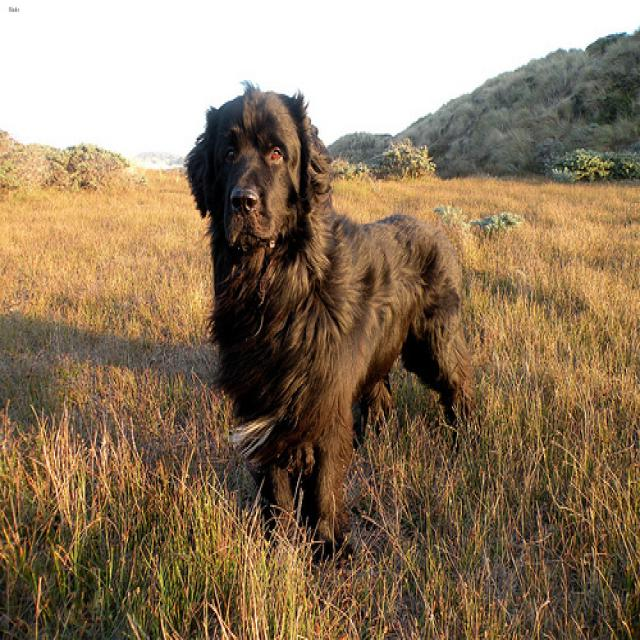dog-newfoundland: (173, 70, 490, 572)
